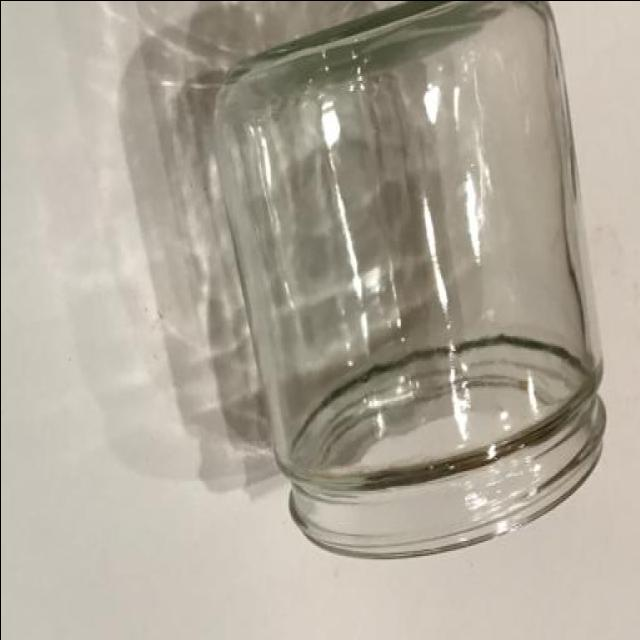glass: (190, 0, 612, 586)
